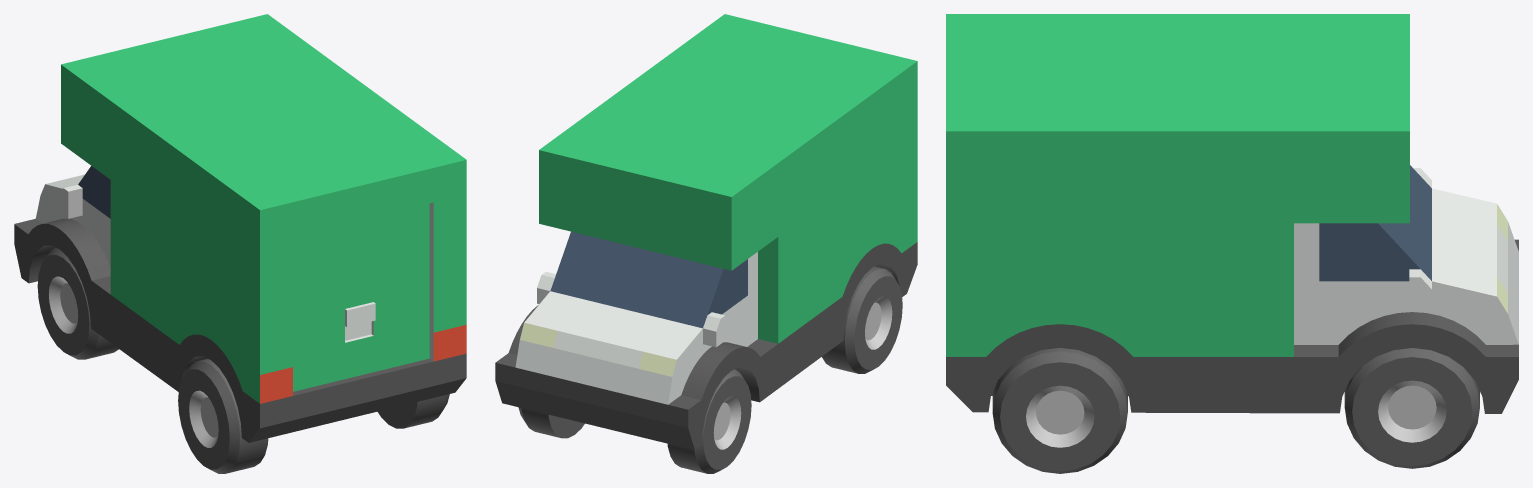
Rendered from carDelivery.fbx.
3 views of the same model, side by side, from view 1: azimuth 30°, elevation 25°; view 2: azimuth 150°, elevation 25°; view 3: azimuth 270°, elevation 25° (orthographic). The views are drawn at different scales.
Visible parts, largest first — view 1: body 1, doorRight, doorLeft, wheelBackLeft 1, wheelFrontLeft 1, wheelBackRight 1; view 2: body 1, wheelBackLeft 1, wheelFrontLeft 1, wheelFrontRight 1; view 3: body 1, wheelBackRight 1, wheelFrontRight 1.
Boxes of the visible parts, <box> form: body 1: <box>14,14,466,442</box>; doorRight: <box>357,203,429,375</box>; doorLeft: <box>293,220,361,391</box>; wheelBackLeft 1: <box>178,358,268,473</box>; wheelFrontLeft 1: <box>37,247,118,359</box>; wheelBackRight 1: <box>377,394,449,428</box>; body 1: <box>495,14,917,450</box>; wheelBackLeft 1: <box>822,266,902,373</box>; wheelFrontLeft 1: <box>667,369,751,473</box>; wheelFrontRight 1: <box>518,407,584,438</box>; body 1: <box>946,14,1518,413</box>; wheelBackRight 1: <box>992,348,1127,473</box>; wheelFrontRight 1: <box>1344,348,1479,468</box>.
Size of the model in its own units: 6.15 by 7.87 by 11.85.
